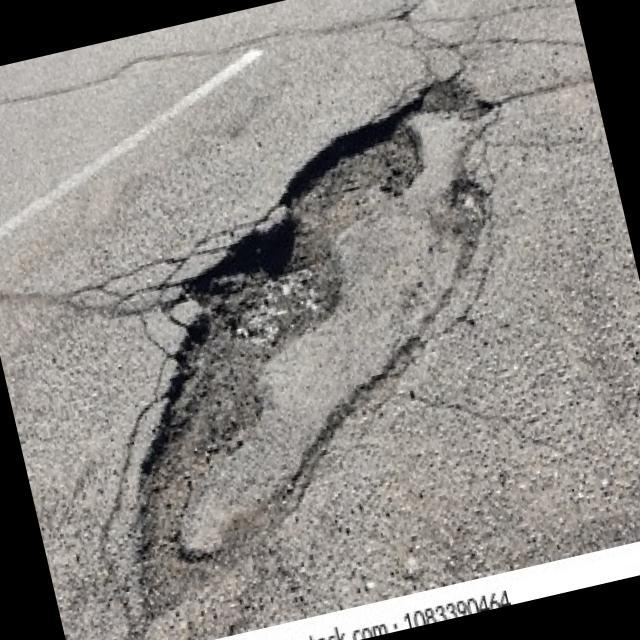Pothole: (24, 62, 588, 622)
